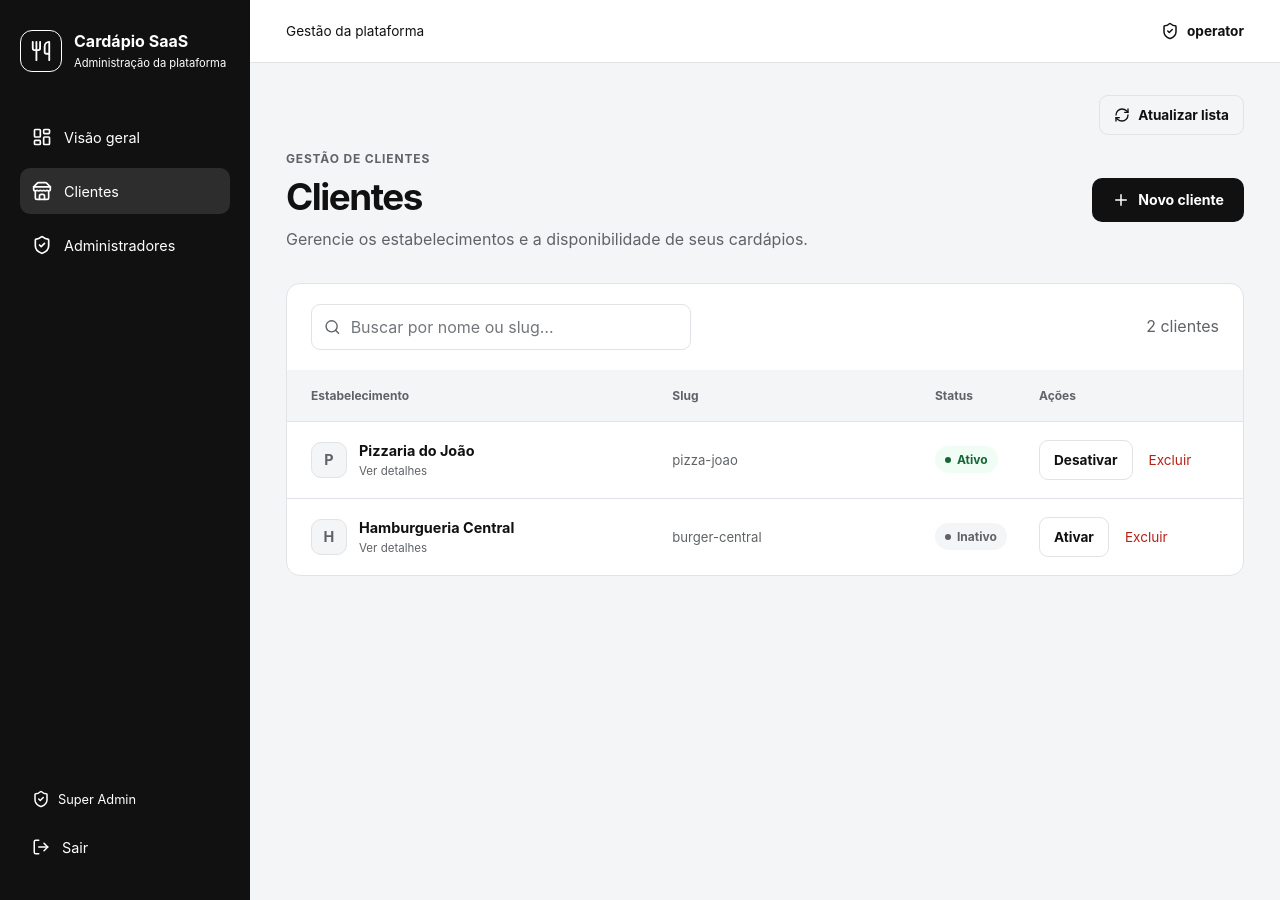
platform management › cancels Excluir without changing any data
Expected: the text "Pizzaria do João" is shown, [359,442,474,459]
Click the button with aria-label "Excluir Pizzaria do João" at point(1170, 460), box [1144,442,1195,478]
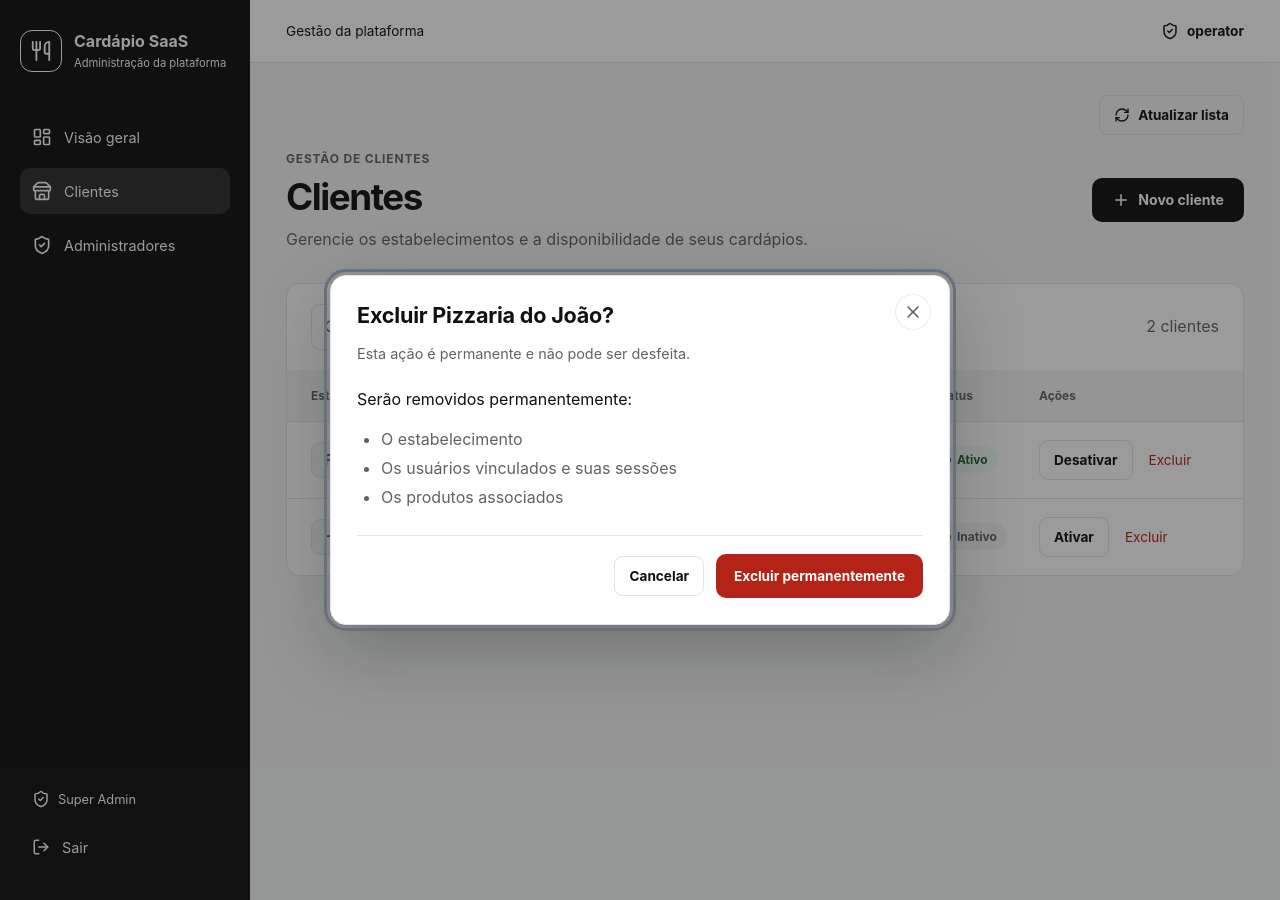
Click the button "Cancelar" at point(659, 576), box [614,556,704,596]
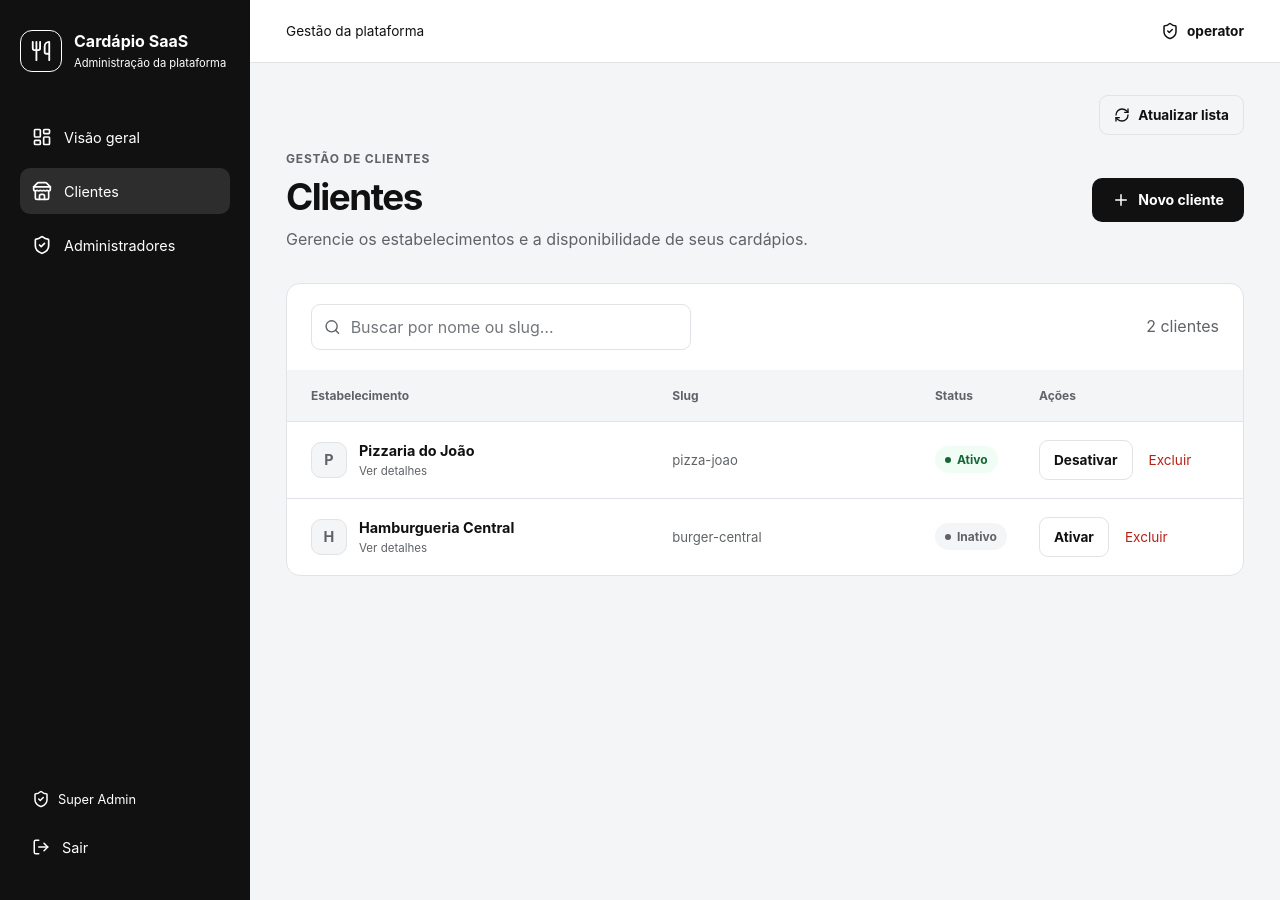
Expected: the text "Pizzaria do João" is shown, [359,442,474,459]
Now the dialog is gone
